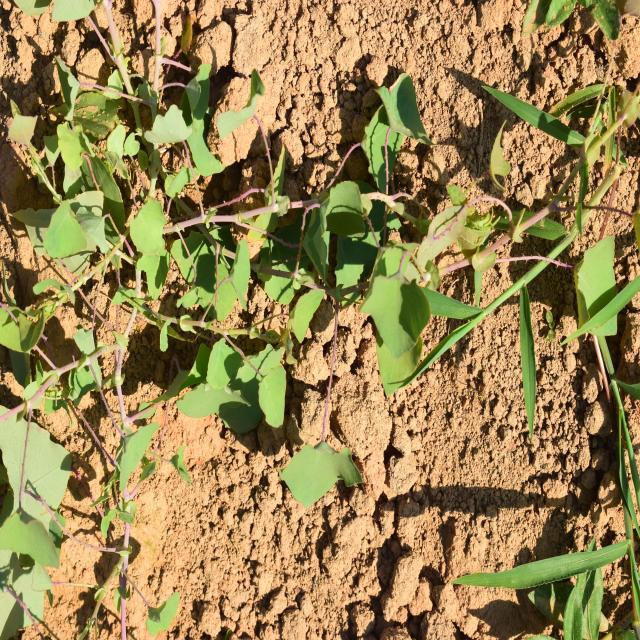Asiatic_Smartweed: (304, 161, 442, 382), (41, 174, 200, 315), (0, 388, 66, 630), (186, 343, 296, 440), (268, 417, 368, 512)
